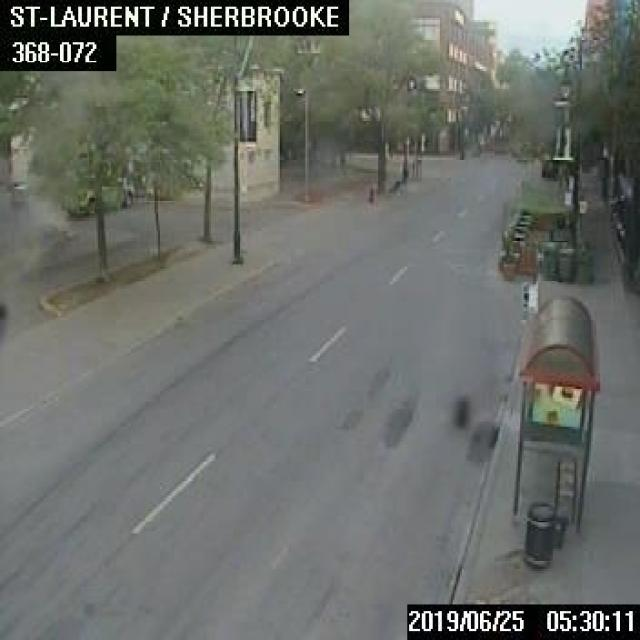vehicle: (65, 175, 131, 213)
